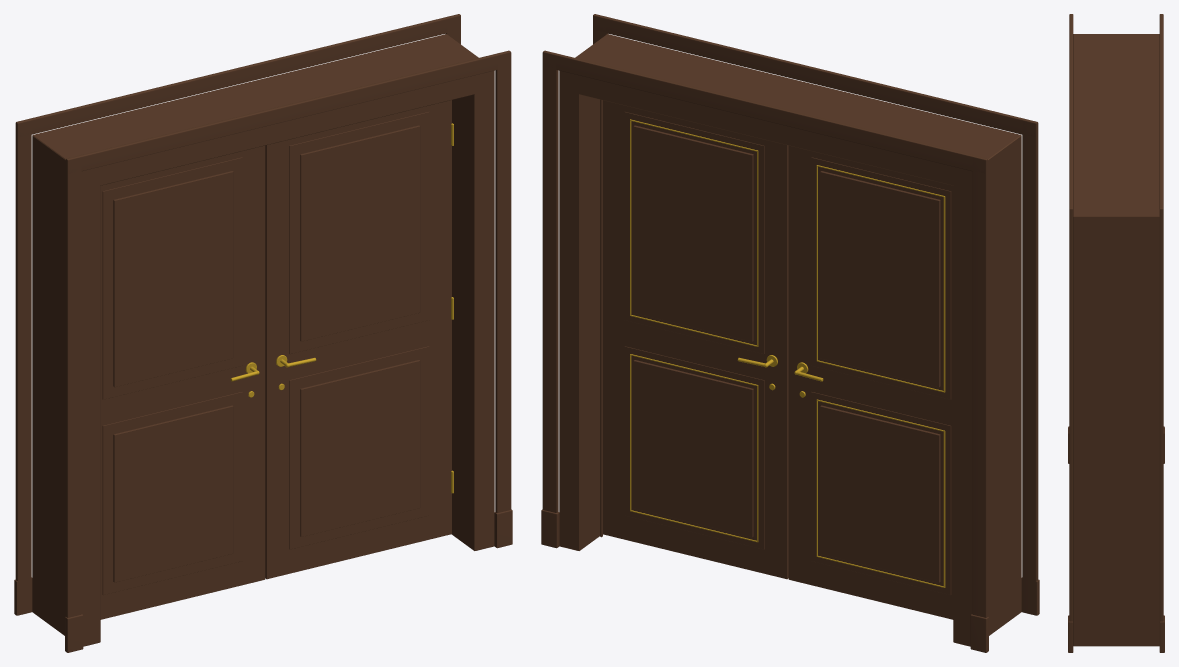
File: prop_door_double_walnut_t40.glb
The picture shows the model from 3 angles, left to right: view 1: azimuth 30°, elevation 25°; view 2: azimuth 150°, elevation 25°; view 3: azimuth 270°, elevation 25°; orthographic projection. The views are drawn at different scales.
Visible parts, largest first — view 1: Frame, LeafMesh2, LeafMesh; view 2: Frame, LeafMesh2, LeafMesh; view 3: Frame.
Part boxes in pixels (x1,y1,x2,y2): Frame: [14, 14, 512, 652]; LeafMesh2: [265, 100, 453, 579]; LeafMesh: [100, 145, 265, 619]; Frame: [541, 14, 1039, 652]; LeafMesh2: [603, 100, 788, 579]; LeafMesh: [788, 145, 953, 619]; Frame: [1068, 14, 1164, 652].
Size of what is drawn, in the model's own units: 2.15 by 2.27 by 0.448.
